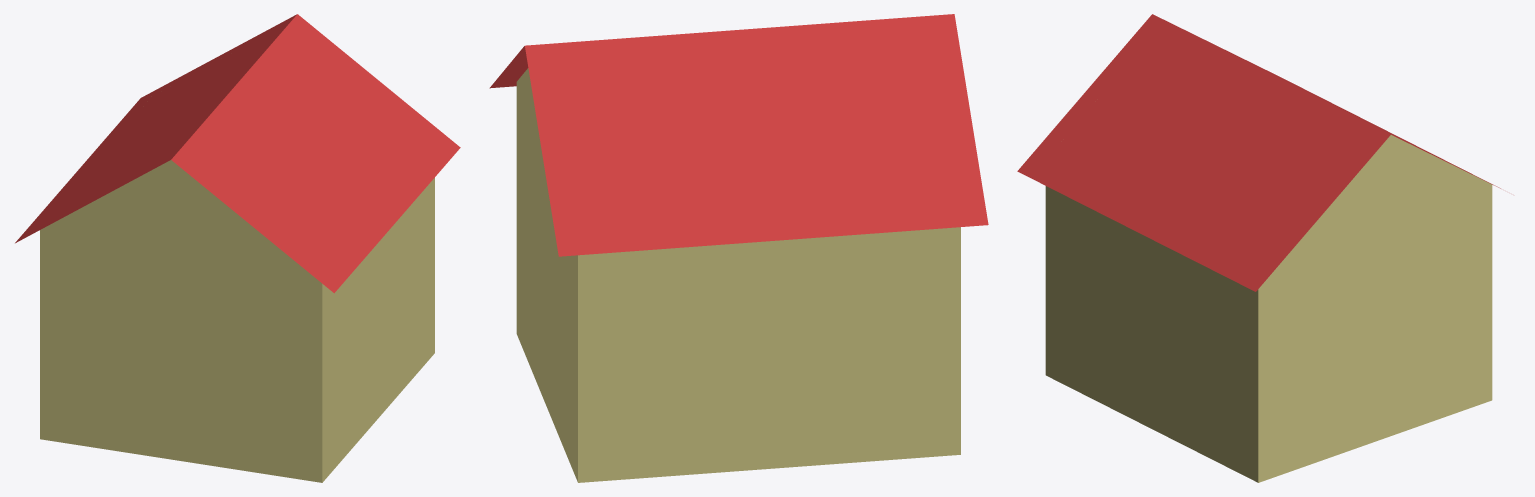
The picture shows the model from 3 angles, left to right: view 1: azimuth 30°, elevation 25°; view 2: azimuth 150°, elevation 25°; view 3: azimuth 270°, elevation 25°; orthographic projection. The views are drawn at different scales.
Size of the model in its own units: 12.52 by 12.43 by 8.52.
